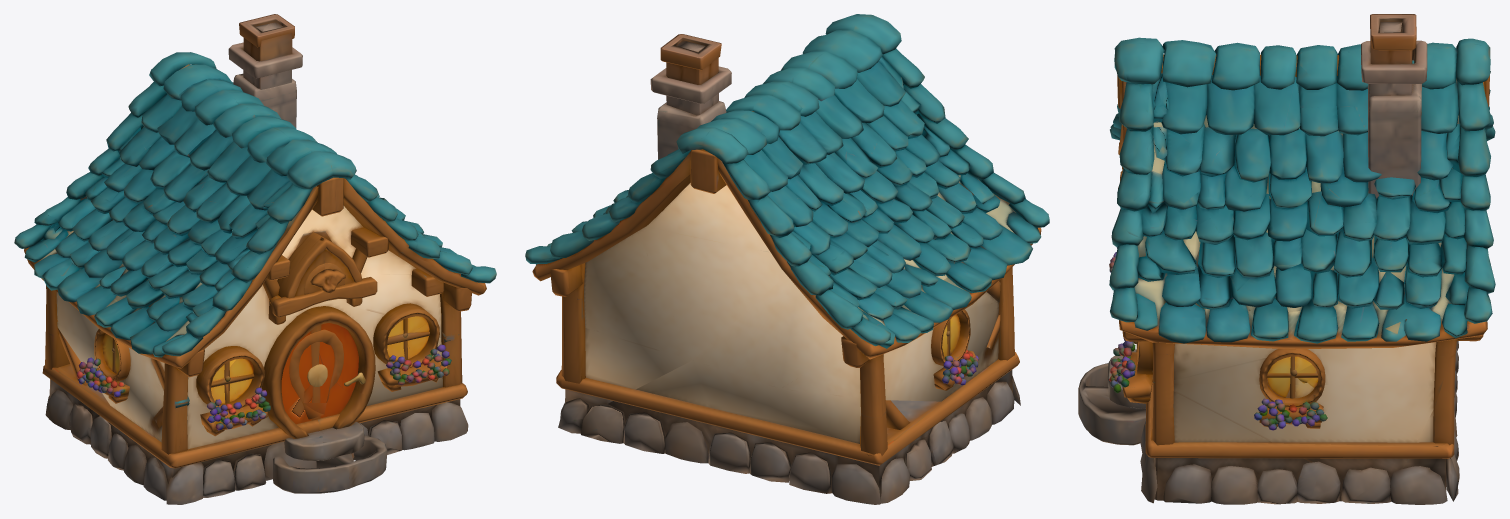
Rendered from lumo_house.glb.
3 views of the same model, side by side, from view 1: azimuth 30°, elevation 25°; view 2: azimuth 150°, elevation 25°; view 3: azimuth 270°, elevation 25° (orthographic). The views are drawn at different scales.
Visible parts, largest first — view 1: geometry_0; view 2: geometry_0; view 3: geometry_0.
Part boxes in pixels (bbox=[...]): geometry_0: bbox=[14, 14, 496, 504]; geometry_0: bbox=[525, 14, 1049, 504]; geometry_0: bbox=[1078, 14, 1495, 504].
Bounding box in the file's own units: 1 × 1 × 0.899.
1 material, 1 textured.
